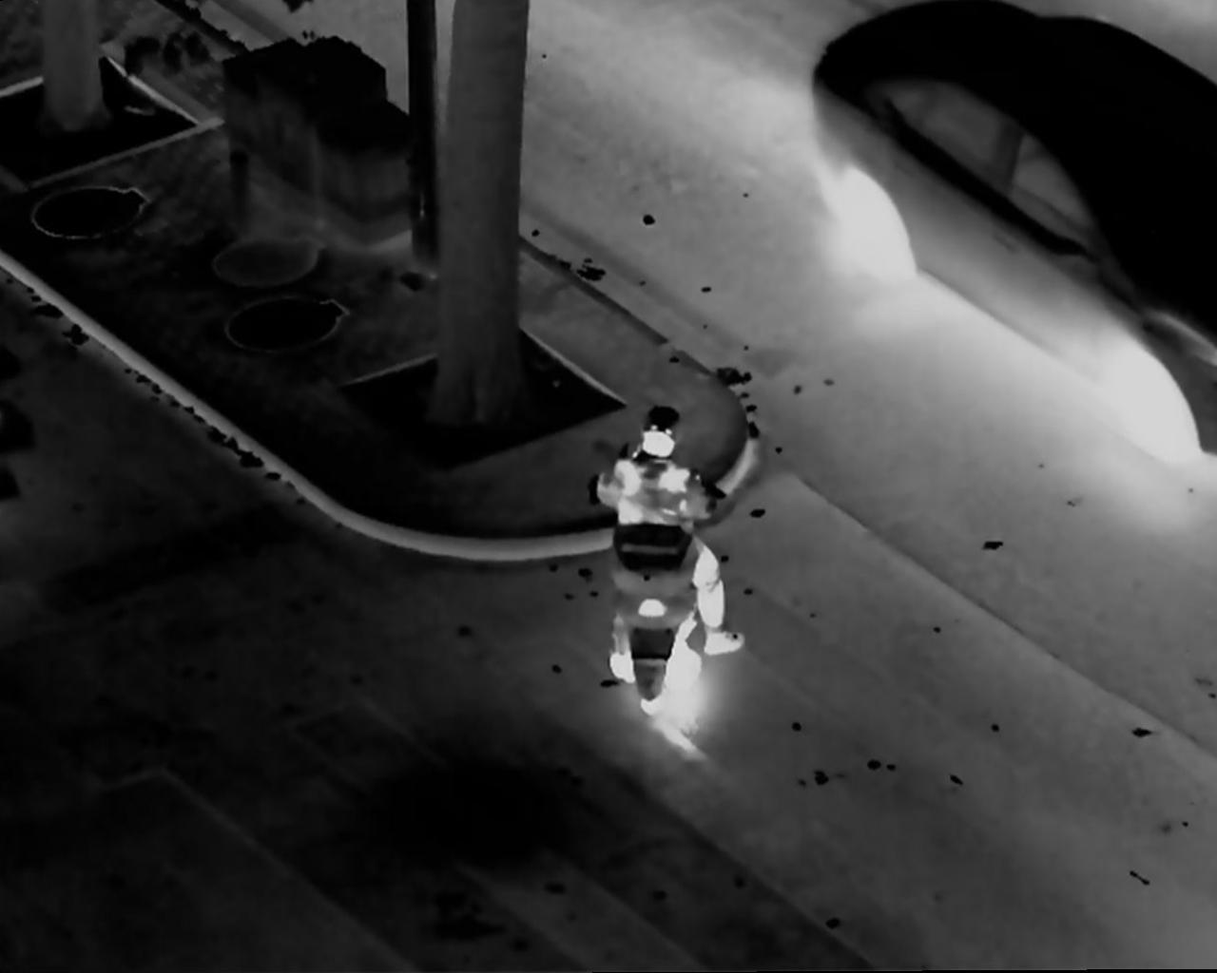person: (589, 401, 744, 705)
